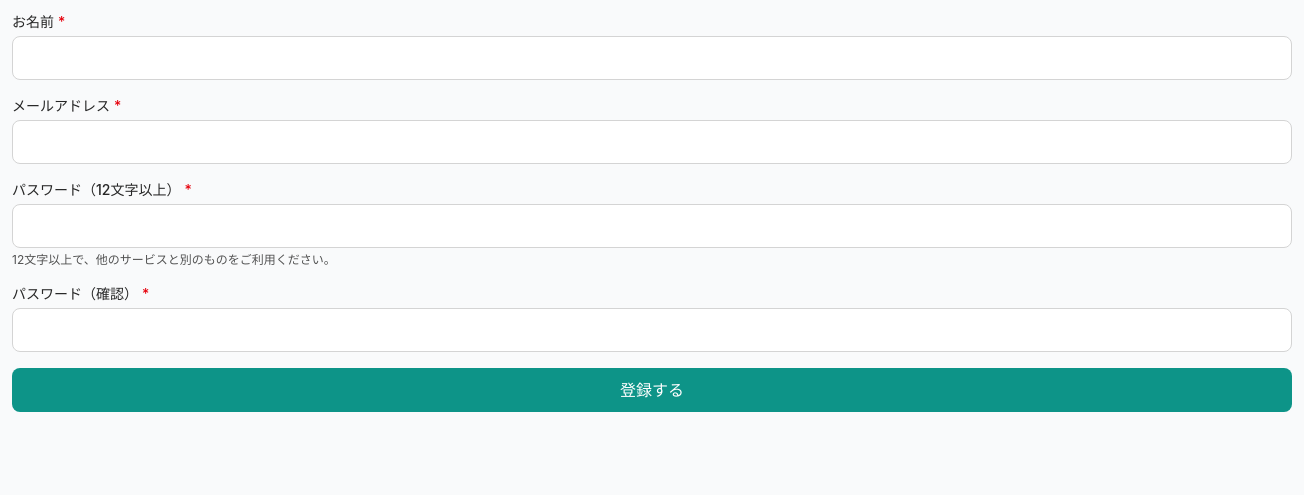
RegisterForm › 登録済みのメールアドレスは案内を表示する（409）
Step 1. Type "山田" into the field labelled "お名前" → [652, 58], box x1=12 y1=36 x2=1292 y2=80
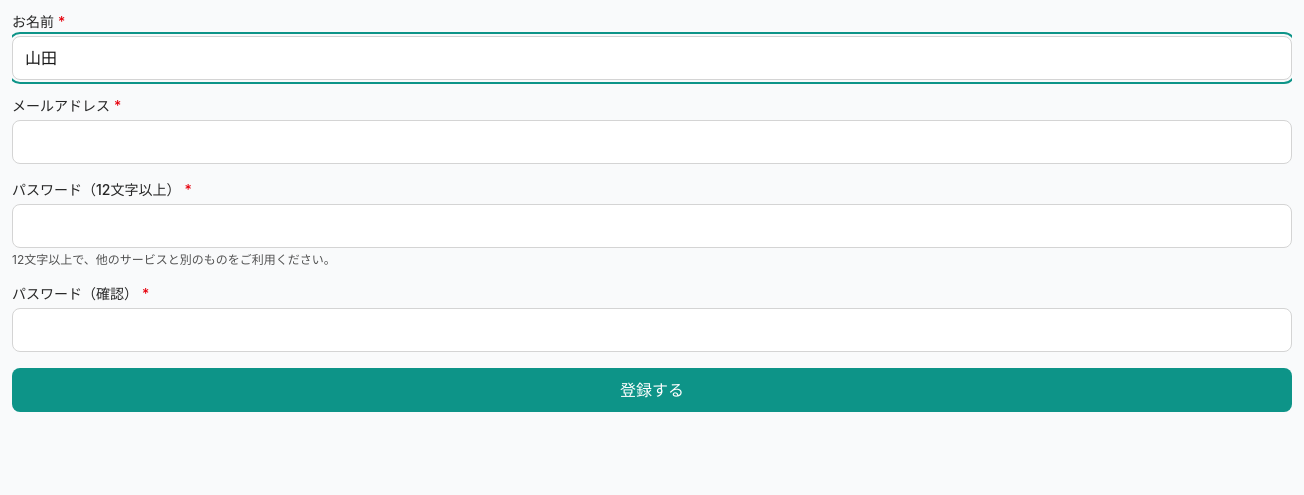
Step 2. Type "dup@example.com" into the field labelled "メールアドレス" → [652, 142], box x1=12 y1=120 x2=1292 y2=164
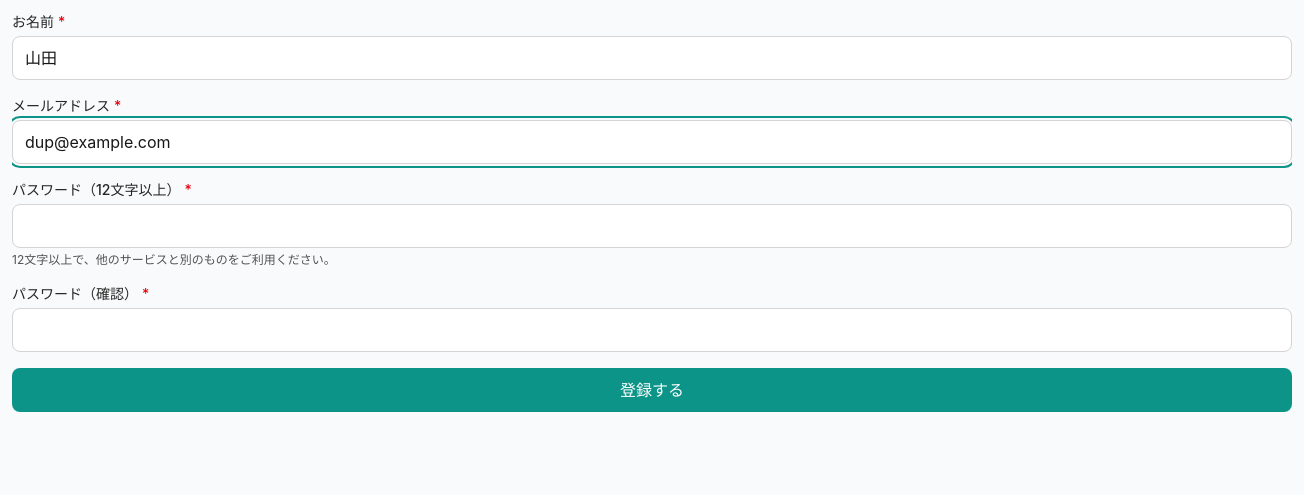
Step 3. Type "abcdefghijkl" into the password field labelled "パスワード（12文字以上）" → [652, 226], box x1=12 y1=204 x2=1292 y2=248
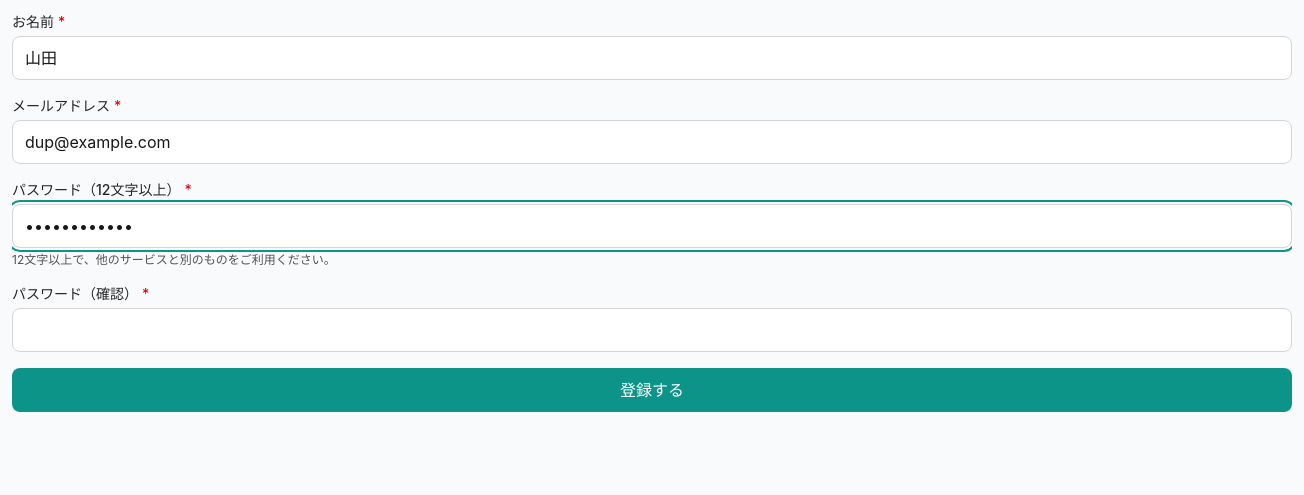
Step 4. Type "abcdefghijkl" into the password field labelled "パスワード（確認）" → [652, 330], box x1=12 y1=308 x2=1292 y2=352
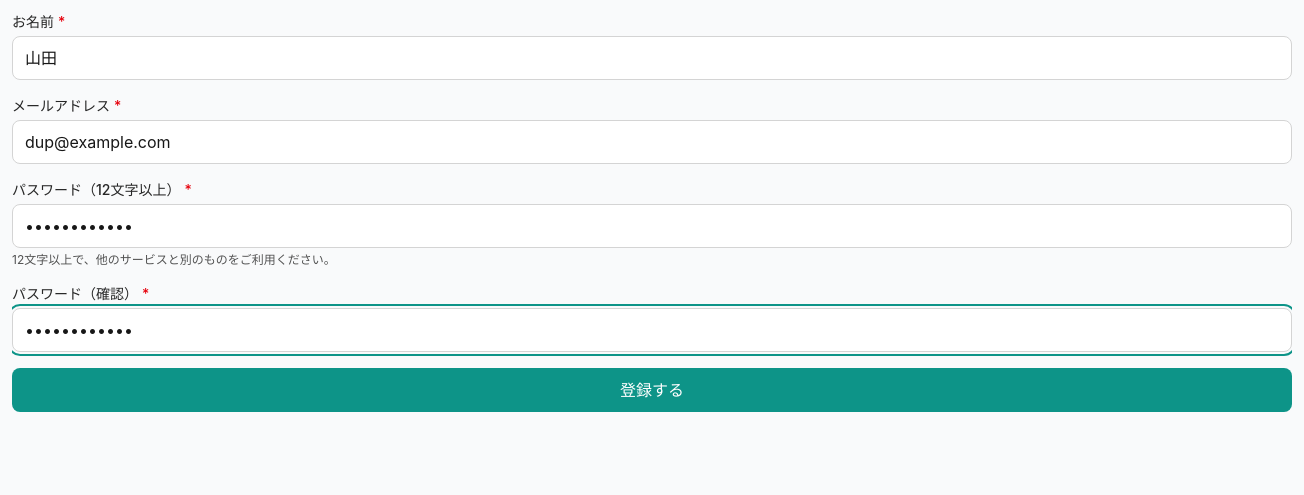
Step 5. Click the button "登録する" → [652, 390], box x1=12 y1=368 x2=1292 y2=412
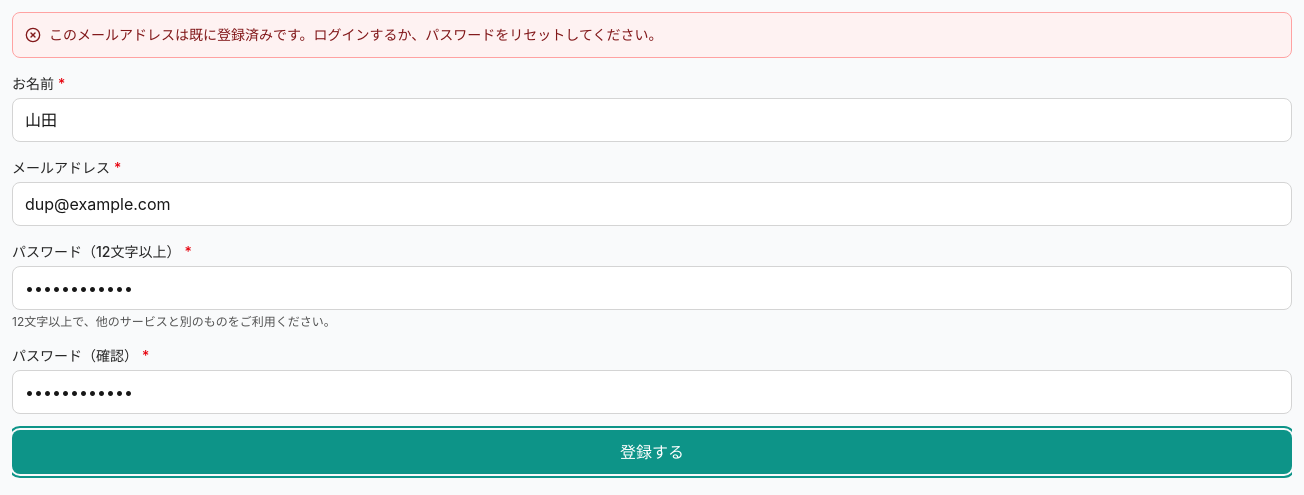
Check: the message shows "登録済み", box x1=49 y1=26 x2=662 y2=43
